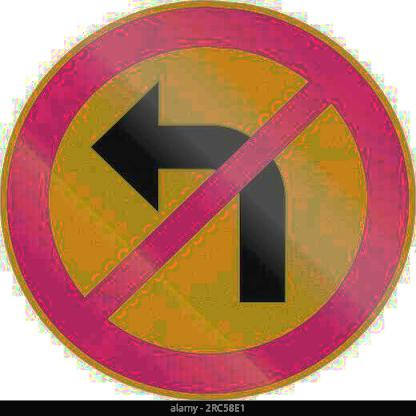No left turn: (2, 5, 416, 398)
